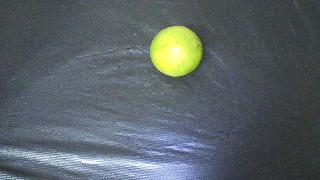LOCAL: (150, 26, 202, 77)
